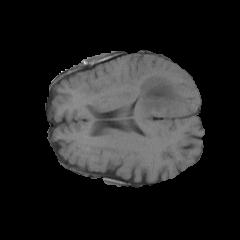glioma: (114, 60, 195, 123)
